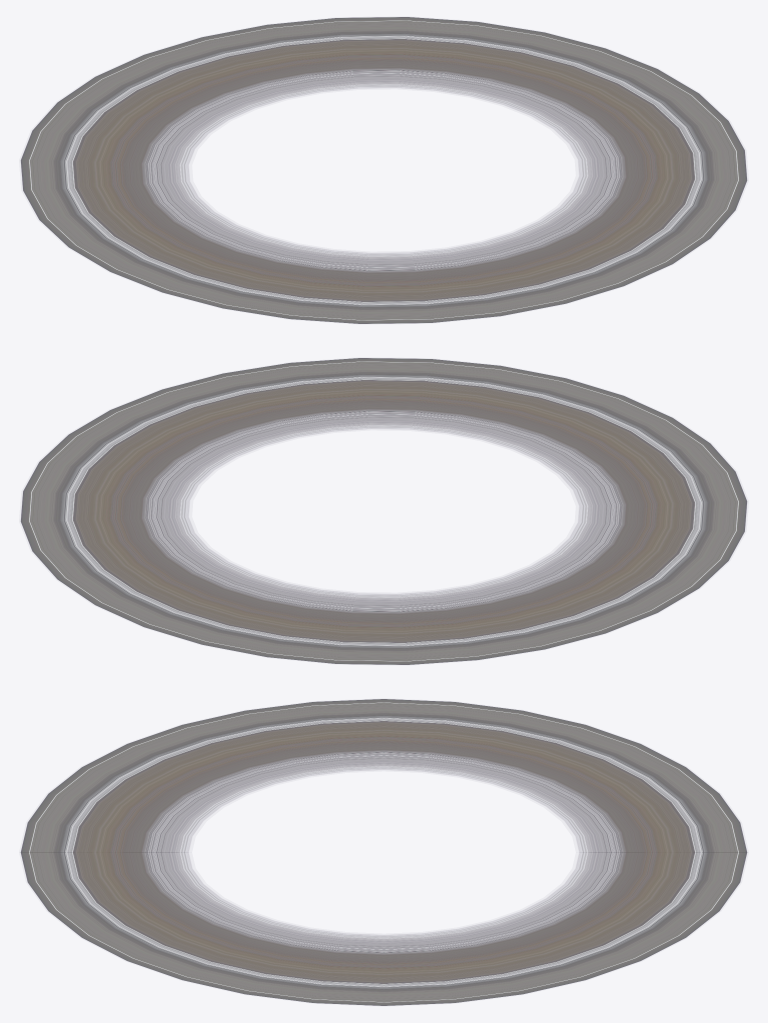
The model's file is saturn_ring.glb.
The picture shows the model from 3 angles, top to bottom: view 1: azimuth 30°, elevation 25°; view 2: azimuth 150°, elevation 25°; view 3: azimuth 270°, elevation 25°; orthographic projection.
Parts seen in each view (by area): view 1: Cylinder; view 2: Cylinder; view 3: Cylinder.
Boxes of the visible parts, box(x1,y1,x2,y2) form: Cylinder: box(20, 17, 747, 323); Cylinder: box(20, 358, 747, 664); Cylinder: box(20, 699, 747, 1005).
Bounding box in the file's own units: 5 × 0 × 5.
1 material, 1 textured.
